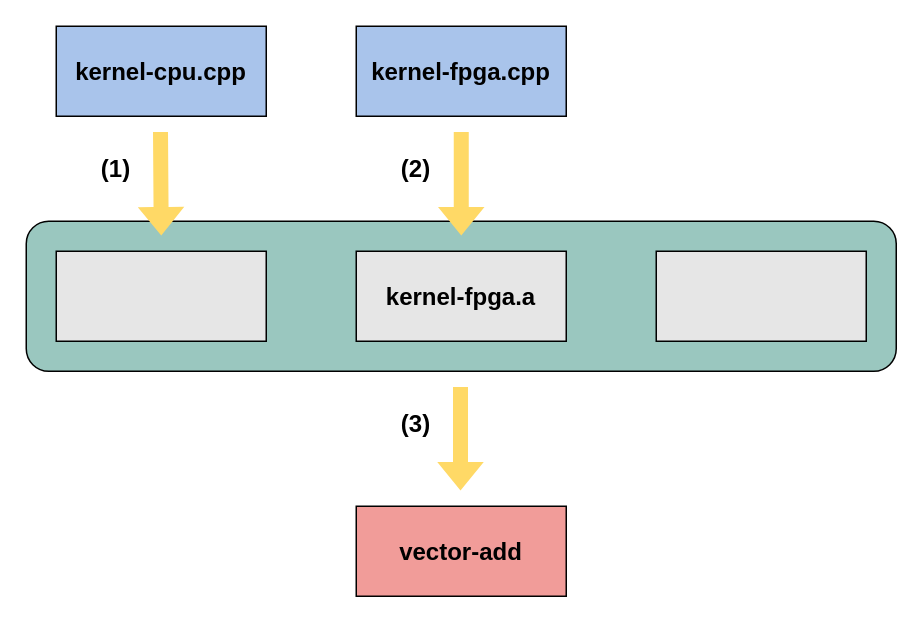
Some shapes in this 923 by 623 pixel diagram are drawn without their labels. The centre of each missing label's shape, as x and y in pixels:
"kernel-cpu.o" belongs at [160,295].
"main.cpp" belongs at [760,295].
